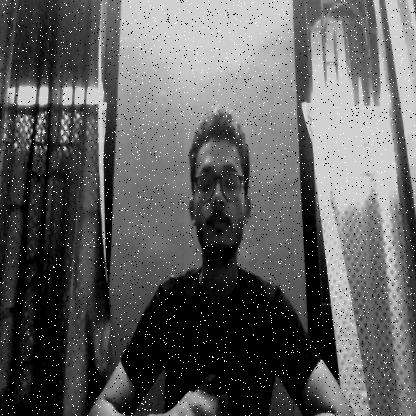Normal: (184, 112, 249, 279)
